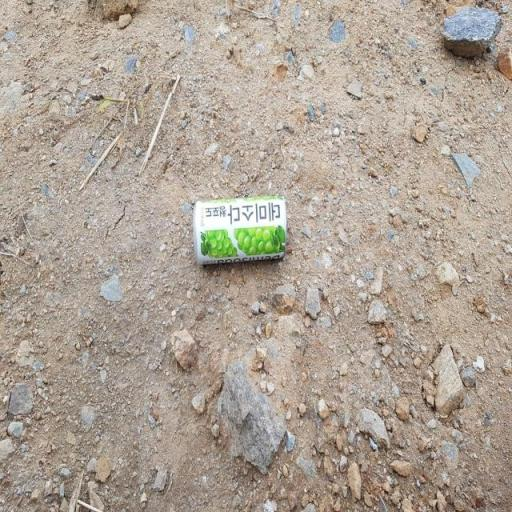metal: (186, 194, 301, 282)
